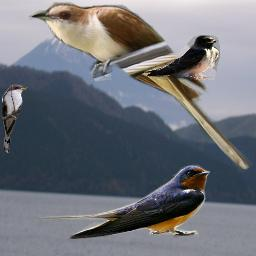Cuckoo: (29, 2, 253, 174), (1, 84, 28, 153)
Swallow: (35, 164, 210, 239), (143, 35, 220, 80)
